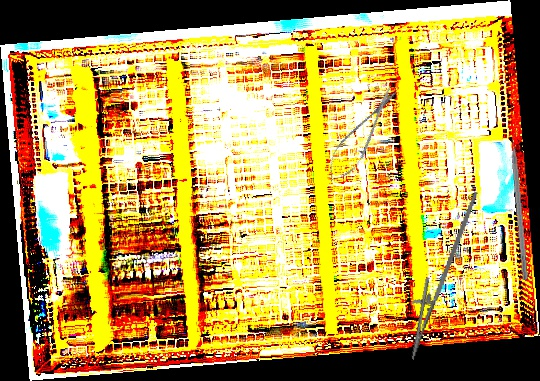Chopper: (508, 126, 537, 280)
Micro Scissor: (319, 80, 406, 189)
Needle Holder: (398, 183, 478, 365)
